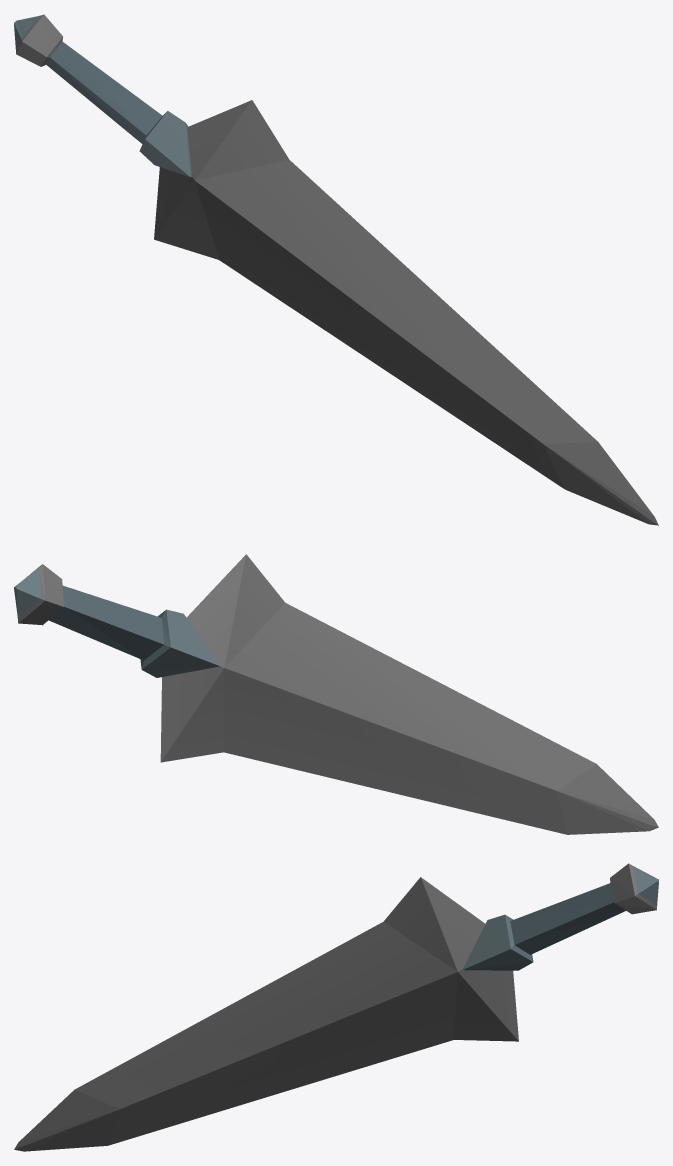
The model's file is CharSkyNPC_Prop_Sword.glb.
3 views of the same model, one above another, from view 1: azimuth 90°, elevation 25°; view 2: azimuth 150°, elevation 25°; view 3: azimuth 270°, elevation 25° (orthographic). The views are drawn at different scales.
Visible parts, largest first — view 1: CharSkyNPC_Prop_Sword; view 2: CharSkyNPC_Prop_Sword; view 3: CharSkyNPC_Prop_Sword.
Boxes of the visible parts, x1,y1,x2,y2 form: CharSkyNPC_Prop_Sword: [14, 14, 658, 525]; CharSkyNPC_Prop_Sword: [14, 554, 658, 834]; CharSkyNPC_Prop_Sword: [14, 863, 658, 1151].
Bounding box in the file's own units: 2.65 × 4.02 × 5.89.
1 material, 1 textured.
